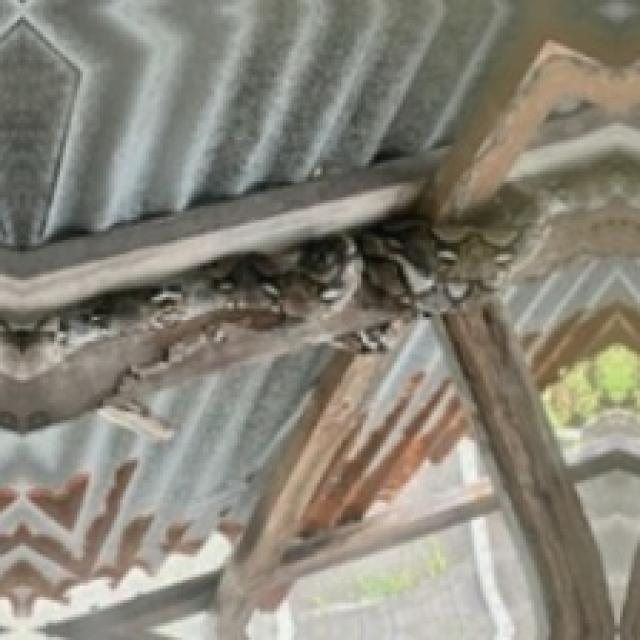reticulated python: (0, 158, 640, 382)
